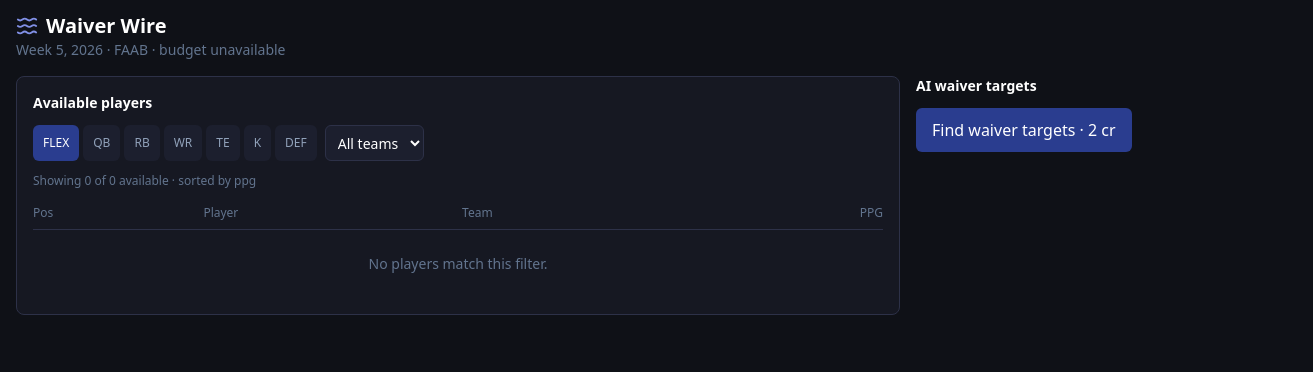
Waiver page — the recommendation panel labels assumed money › says the BUDGET is the unknown when the league is known to bid
Click the button "Find waiver targets · 2 cr". click: (1024, 130)
box: top-left (916, 108), bottom-right (1132, 152)
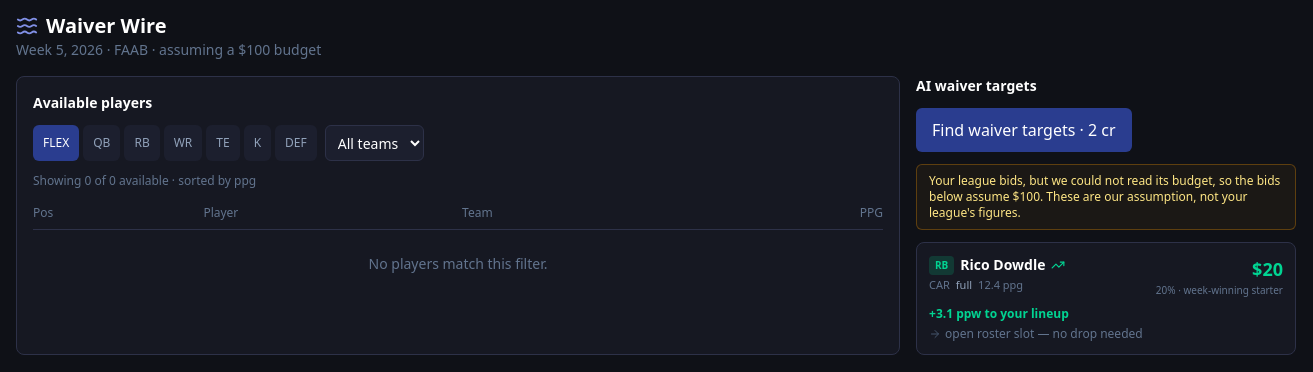
expect the text "assume $100" is shown: met, box top-left (929, 172), bottom-right (1280, 221)
